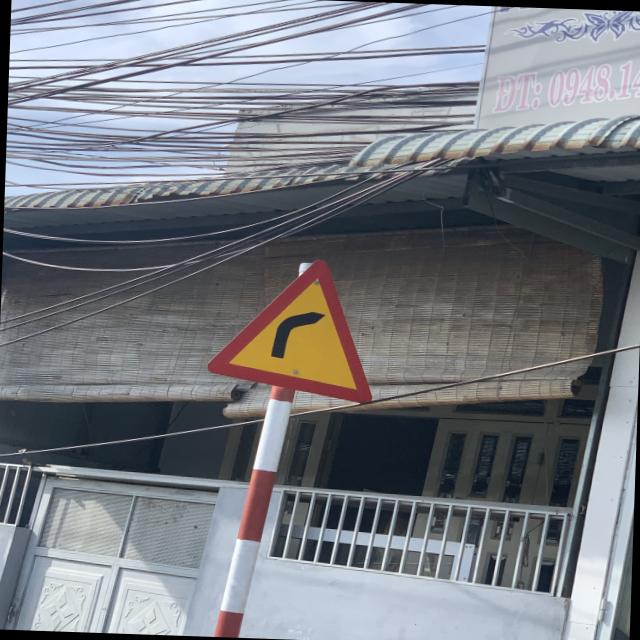Duong_Nguoi_Di_Bo_Cat_Ngang: (204, 254, 378, 404)
